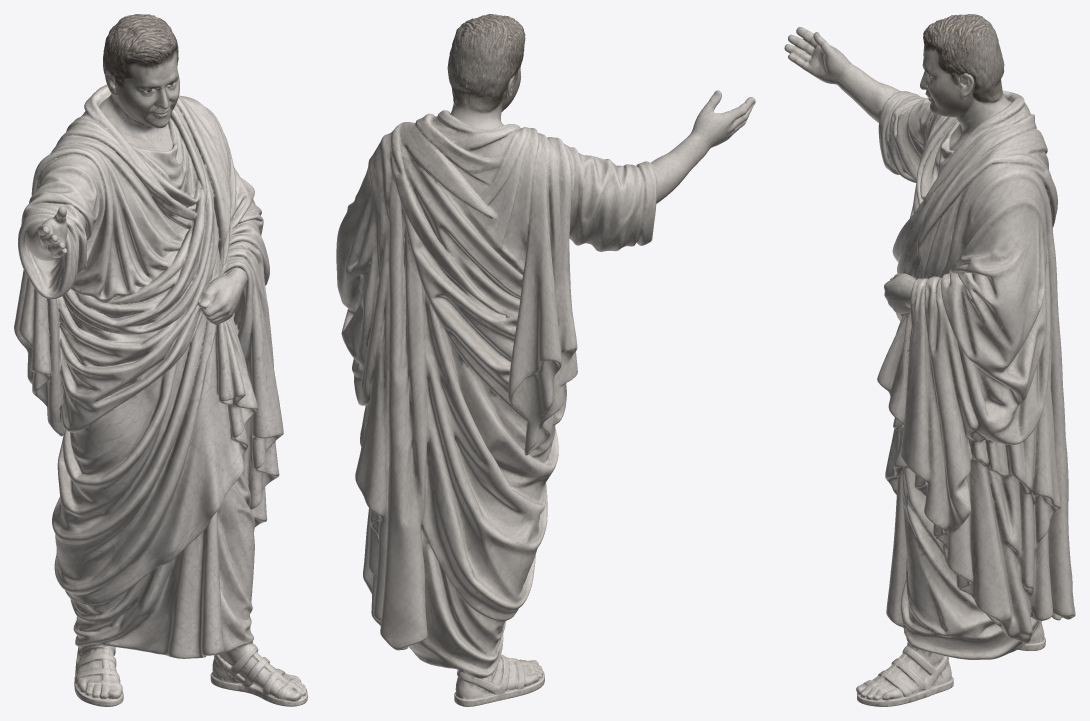
File: kishori.glb
3 views of the same model, side by side, from view 1: azimuth 30°, elevation 25°; view 2: azimuth 150°, elevation 25°; view 3: azimuth 270°, elevation 25° (orthographic). The views are drawn at different scales.
Visible parts, largest first — view 1: Mesh_0.001; view 2: Mesh_0.001; view 3: Mesh_0.001.
Part boxes in pixels (x1,y1,x2,y2): Mesh_0.001: [14, 14, 307, 706]; Mesh_0.001: [336, 14, 755, 706]; Mesh_0.001: [784, 14, 1075, 706].
Bounding box in the file's own units: 4 × 8 × 3.32.
Materials: 1 (1 with a texture image).
